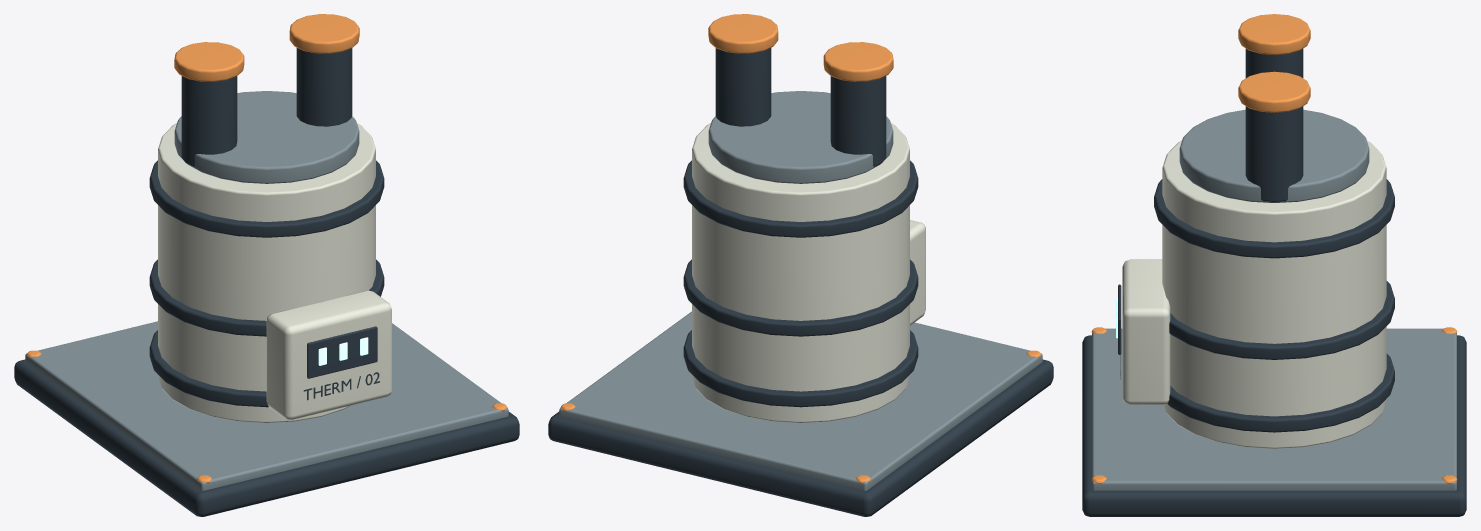
File: thermal.glb
3 renders of one model, left to right at view 1: azimuth 30°, elevation 25°; view 2: azimuth 150°, elevation 25°; view 3: azimuth 270°, elevation 25°, orthographic. The views are drawn at different scales.
Visible parts, largest first — view 1: Main pressure tank, Inset apron, Foundation graphite, Foundation anchor; view 2: Main pressure tank, Inset apron, Foundation graphite, Foundation anchor; view 3: Main pressure tank, Inset apron, Foundation graphite, Foundation anchor.
Boxes of the visible parts, x1=… form: Main pressure tank: x1=158, y1=123, x2=391, y2=422; Inset apron: x1=25, y1=91, x2=508, y2=490; Foundation graphite: x1=14, y1=48, x2=519, y2=516; Foundation anchor: x1=26, y1=14, x2=506, y2=483; Main pressure tank: x1=692, y1=123, x2=925, y2=422; Inset apron: x1=559, y1=91, x2=1042, y2=490; Foundation graphite: x1=548, y1=48, x2=1053, y2=516; Foundation anchor: x1=561, y1=14, x2=1041, y2=483; Main pressure tank: x1=1122, y1=140, x2=1386, y2=448; Inset apron: x1=1092, y1=109, x2=1456, y2=490; Foundation graphite: x1=1082, y1=49, x2=1466, y2=516; Foundation anchor: x1=1091, y1=14, x2=1457, y2=483.
Bounding box in the file's own units: 3.6 × 3.95 × 3.6.
